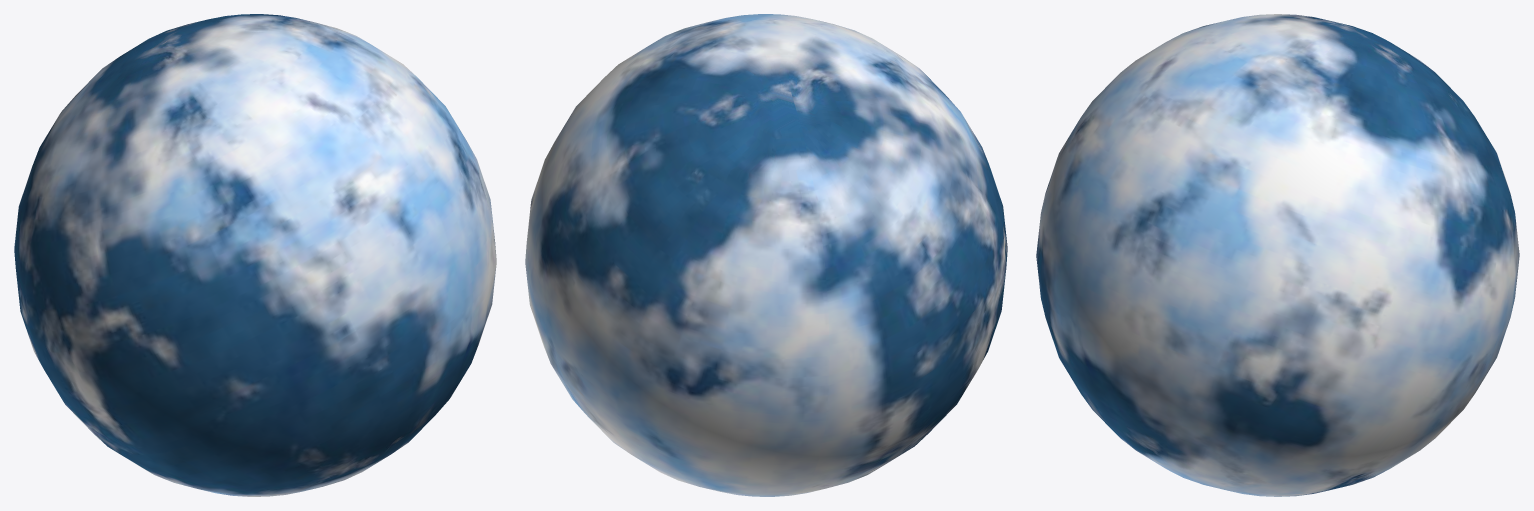
File: Planets.obj
3 renders of one model, left to right at view 1: azimuth 30°, elevation 25°; view 2: azimuth 150°, elevation 25°; view 3: azimuth 270°, elevation 25°, orthographic.
Parts seen in each view (by area): view 1: Sphere.005; view 2: Sphere.005; view 3: Sphere.005.
Boxes of the visible parts, x1,y1,x2,y2 form: Sphere.005: (14,14,496,496); Sphere.005: (525,14,1007,496); Sphere.005: (1036,14,1519,496).
Bounding box in the file's own units: 1.47 × 1.47 × 1.47.
Materials: 1 (1 with a texture image).
